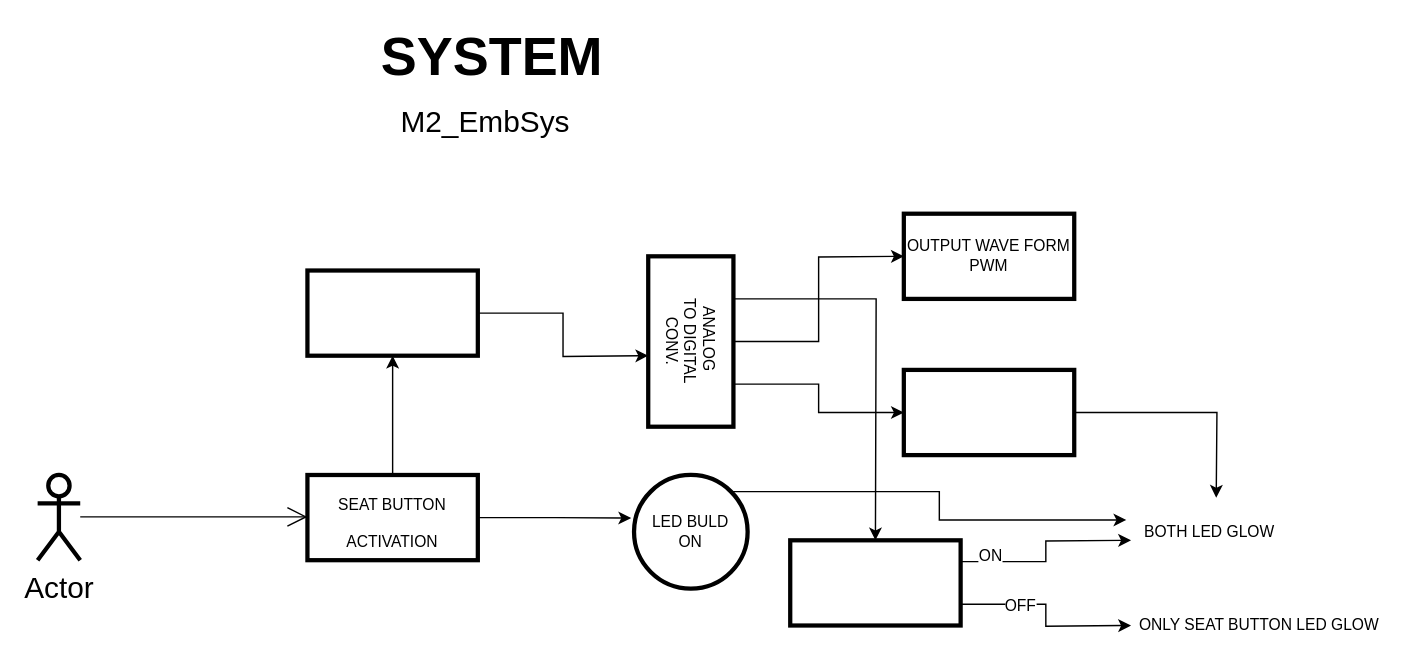
Image size: 1411x663. Some labels were removed from this diagram. Each missing label, with the centre of its shape:
"HEATER ON/OFF" belongs at pixel 874 582.
"LED ACTUATOR" belongs at pixel 988 412.
"TEMPERATURE SENSOR ACTIVATION" belongs at pixel 392 312.
